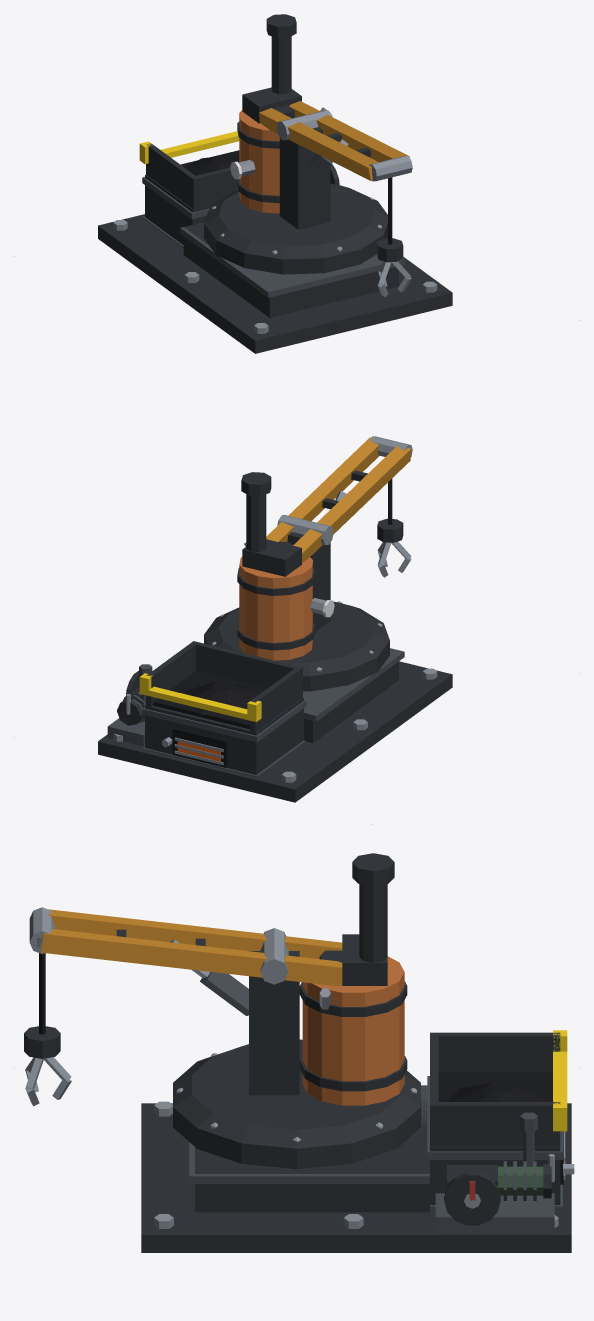
File: bras_t1.glb
3 renders of one model, top to bottom at view 1: azimuth 30°, elevation 25°; view 2: azimuth 150°, elevation 25°; view 3: azimuth 270°, elevation 25°, orthographic. The views are drawn at different scales.
Parts seen in each view (by area): view 1: socle_fonte.002, tourelle_plateau.002, tourelle_fonte.002, tourelle_orange.002, socle_acier_sombre.006, tourelle_cuivre.002, tourelle_acier.006, socle_rive_t1.002, charbon_tremie.002, socle_acier.006; view 2: socle_fonte.002, tourelle_fonte.002, tourelle_plateau.002, tourelle_cuivre.002, tourelle_orange.002, socle_acier_sombre.006, socle_noir.006, tourelle_acier.006, socle_rive_t1.002, charbon_tremie.002, socle_acier.006; view 3: socle_fonte.002, tourelle_plateau.002, tourelle_fonte.002, tourelle_orange.002, tourelle_cuivre.002, socle_acier_sombre.006, tourelle_acier.006, volant_fonte.002, socle_noir.006, charbon_tremie.002, socle_rive_t1.002, socle_acier.006 (+2 smaller).
Boxes of the visible parts, x1,y1,x2,y2 form: socle_fonte.002: (98, 143, 452, 353); tourelle_plateau.002: (204, 184, 387, 274); tourelle_fonte.002: (237, 14, 403, 262); tourelle_orange.002: (259, 101, 409, 180); socle_acier_sombre.006: (142, 177, 404, 297); tourelle_cuivre.002: (239, 110, 279, 213); tourelle_acier.006: (211, 107, 412, 296); socle_rive_t1.002: (139, 131, 239, 164); charbon_tremie.002: (185, 156, 239, 175); socle_acier.006: (113, 220, 437, 333); socle_fonte.002: (98, 641, 452, 802); tourelle_fonte.002: (237, 470, 403, 650); tourelle_plateau.002: (204, 601, 389, 691); tourelle_cuivre.002: (239, 557, 312, 660); tourelle_orange.002: (266, 437, 411, 562); socle_acier_sombre.006: (107, 648, 404, 776); socle_noir.006: (153, 671, 266, 767); tourelle_acier.006: (212, 436, 412, 671); socle_rive_t1.002: (139, 673, 261, 722); charbon_tremie.002: (183, 682, 259, 716); socle_acier.006: (113, 668, 437, 782); socle_fonte.002: (141, 1032, 571, 1252); tourelle_plateau.002: (173, 1039, 420, 1169); tourelle_fonte.002: (24, 853, 407, 1095); tourelle_orange.002: (41, 909, 342, 985); tourelle_cuivre.002: (302, 956, 404, 1105); socle_acier_sombre.006: (189, 1076, 562, 1232); tourelle_acier.006: (25, 907, 417, 1141); volant_fonte.002: (444, 1172, 500, 1225); socle_noir.006: (438, 1072, 563, 1184); charbon_tremie.002: (447, 1081, 552, 1101); socle_rive_t1.002: (553, 1030, 567, 1131); socle_acier.006: (154, 1101, 574, 1228).
Bounding box in the file's own units: 1 × 0.65 × 1.
